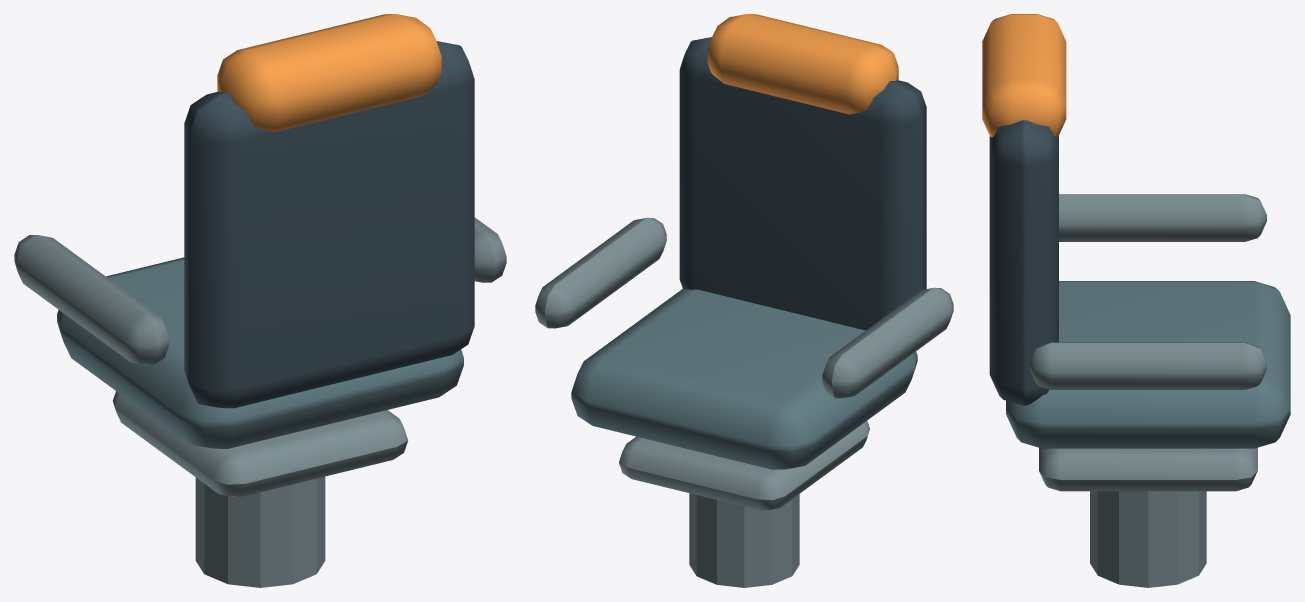
File: chair.glb
3 renders of one model, left to right at view 1: azimuth 30°, elevation 25°; view 2: azimuth 150°, elevation 25°; view 3: azimuth 270°, elevation 25°, orthographic. The views are drawn at different scales.
Visible parts, largest first — view 1: chair; view 2: chair; view 3: chair.
Boxes of the visible parts, box(x1,y1,x2,y2) form: chair: box(14, 14, 506, 587); chair: box(535, 14, 953, 587); chair: box(982, 14, 1290, 587).
Bounding box in the file's own units: 1.08 × 1.56 × 0.845.
